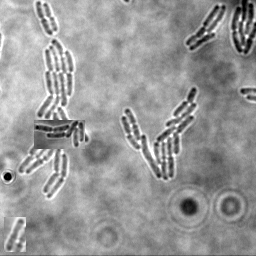Dividing: (34, 1, 52, 37), (41, 3, 57, 33)
Microcolony: (18, 40, 89, 199), (120, 87, 197, 181), (184, 5, 226, 52), (34, 120, 85, 149), (230, 1, 255, 56)
Rod: (4, 217, 26, 252)
